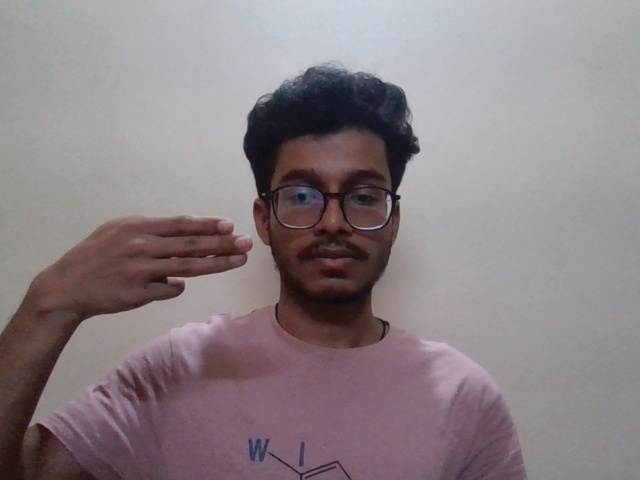wednesday: (20, 203, 269, 317)
